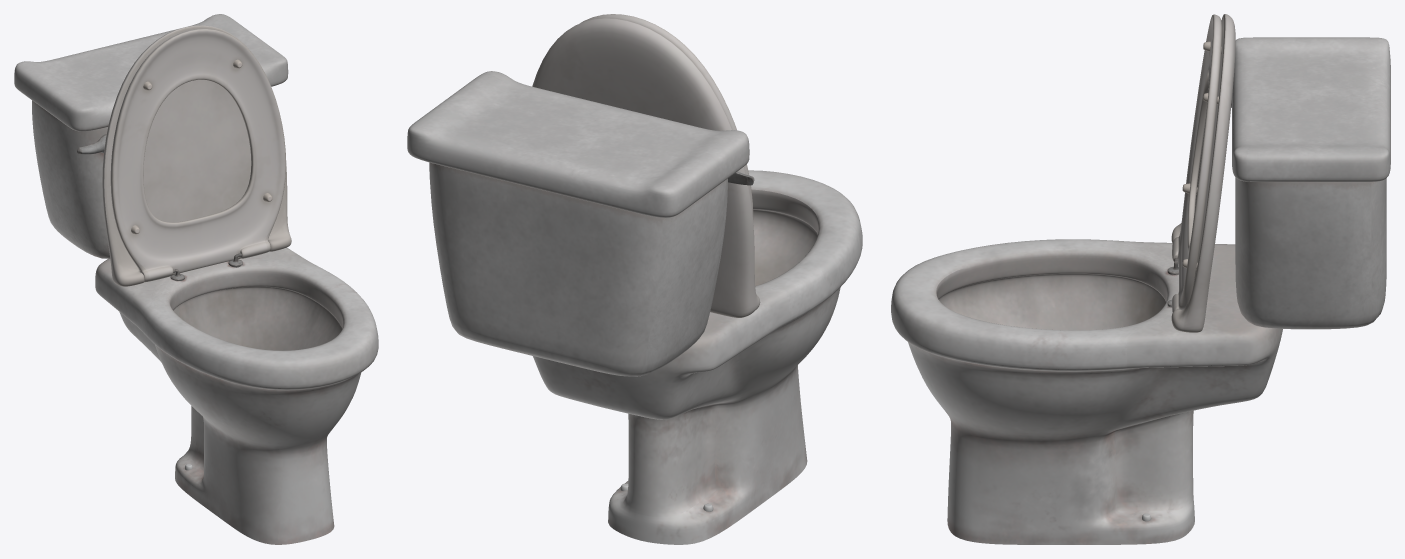
The picture shows the model from 3 angles, left to right: view 1: azimuth 30°, elevation 25°; view 2: azimuth 150°, elevation 25°; view 3: azimuth 270°, elevation 25°; orthographic projection. The views are drawn at different scales.
Parts seen in each view (by area): view 1: SkibidiToilet; view 2: SkibidiToilet; view 3: SkibidiToilet.
Boxes of the visible parts, x1=… form: SkibidiToilet: x1=14, y1=14, x2=378, y2=544; SkibidiToilet: x1=407, y1=14, x2=862, y2=544; SkibidiToilet: x1=891, y1=14, x2=1390, y2=544.
Size of the model in its own units: 2.47 by 4.63 by 4.23.
1 material, 1 textured.
